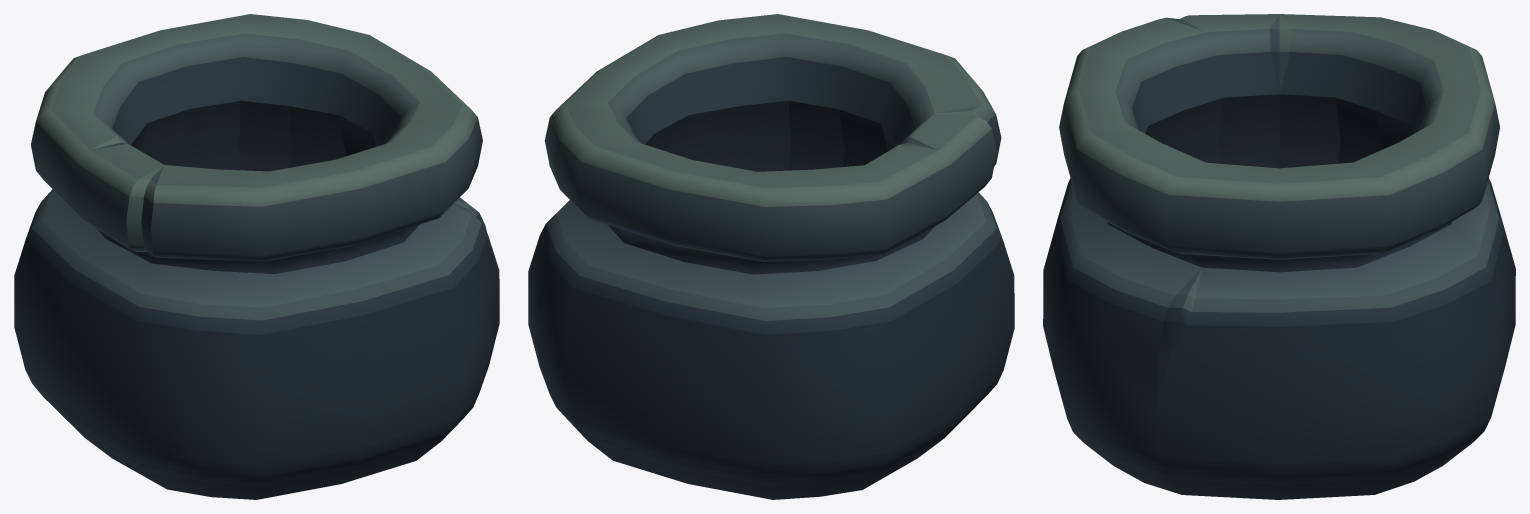
Rendered from cauldron_LOD_group.fbx.
3 renders of one model, left to right at view 1: azimuth 30°, elevation 25°; view 2: azimuth 150°, elevation 25°; view 3: azimuth 270°, elevation 25°, orthographic. The views are drawn at different scales.
Parts seen in each view (by area): view 1: cauldron_LOD0; view 2: cauldron_LOD0; view 3: cauldron_LOD0.
Part boxes in pixels (left/top/right/bottom): cauldron_LOD0: left=14, top=14, right=499, bottom=499; cauldron_LOD0: left=528, top=14, right=1014, bottom=499; cauldron_LOD0: left=1043, top=14, right=1515, bottom=499.
Size of what is drawn, in the model's own units: 125 by 103 by 125.
1 material, 1 textured.
